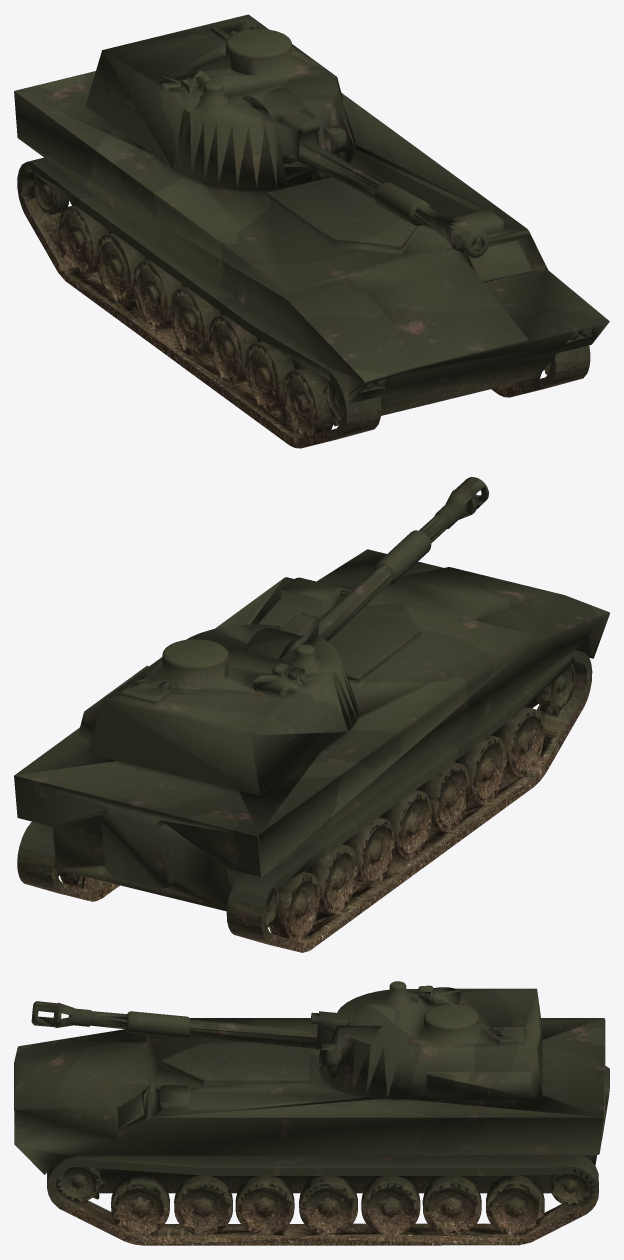
File: spg_2s1.glb
3 views of the same model, one above another, from view 1: azimuth 30°, elevation 25°; view 2: azimuth 150°, elevation 25°; view 3: azimuth 270°, elevation 25° (orthographic). The views are drawn at different scales.
Parts seen in each view (by area): view 1: 2S1_Gwosdika_complete; view 2: 2S1_Gwosdika_complete; view 3: 2S1_Gwosdika_complete.
Part boxes in pixels (x1,y1,x2,y2): 2S1_Gwosdika_complete: [14, 14, 609, 448]; 2S1_Gwosdika_complete: [14, 477, 609, 952]; 2S1_Gwosdika_complete: [14, 981, 609, 1245].
Bounding box in the file's own units: 2.87 × 2.61 × 7.26.
Materials: 1 (1 with a texture image).
